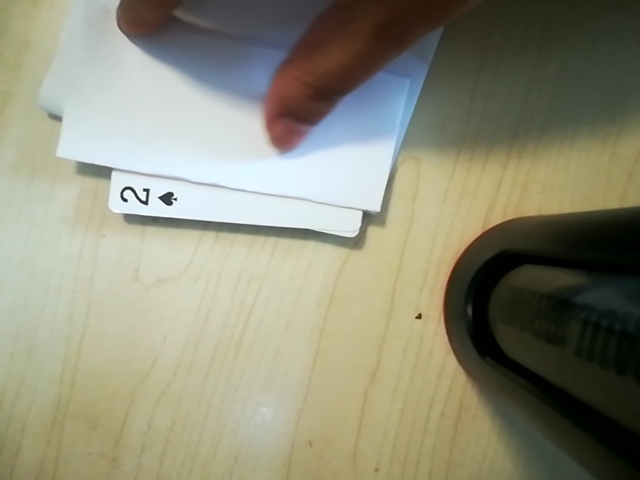ht 2: (111, 169, 189, 221)
